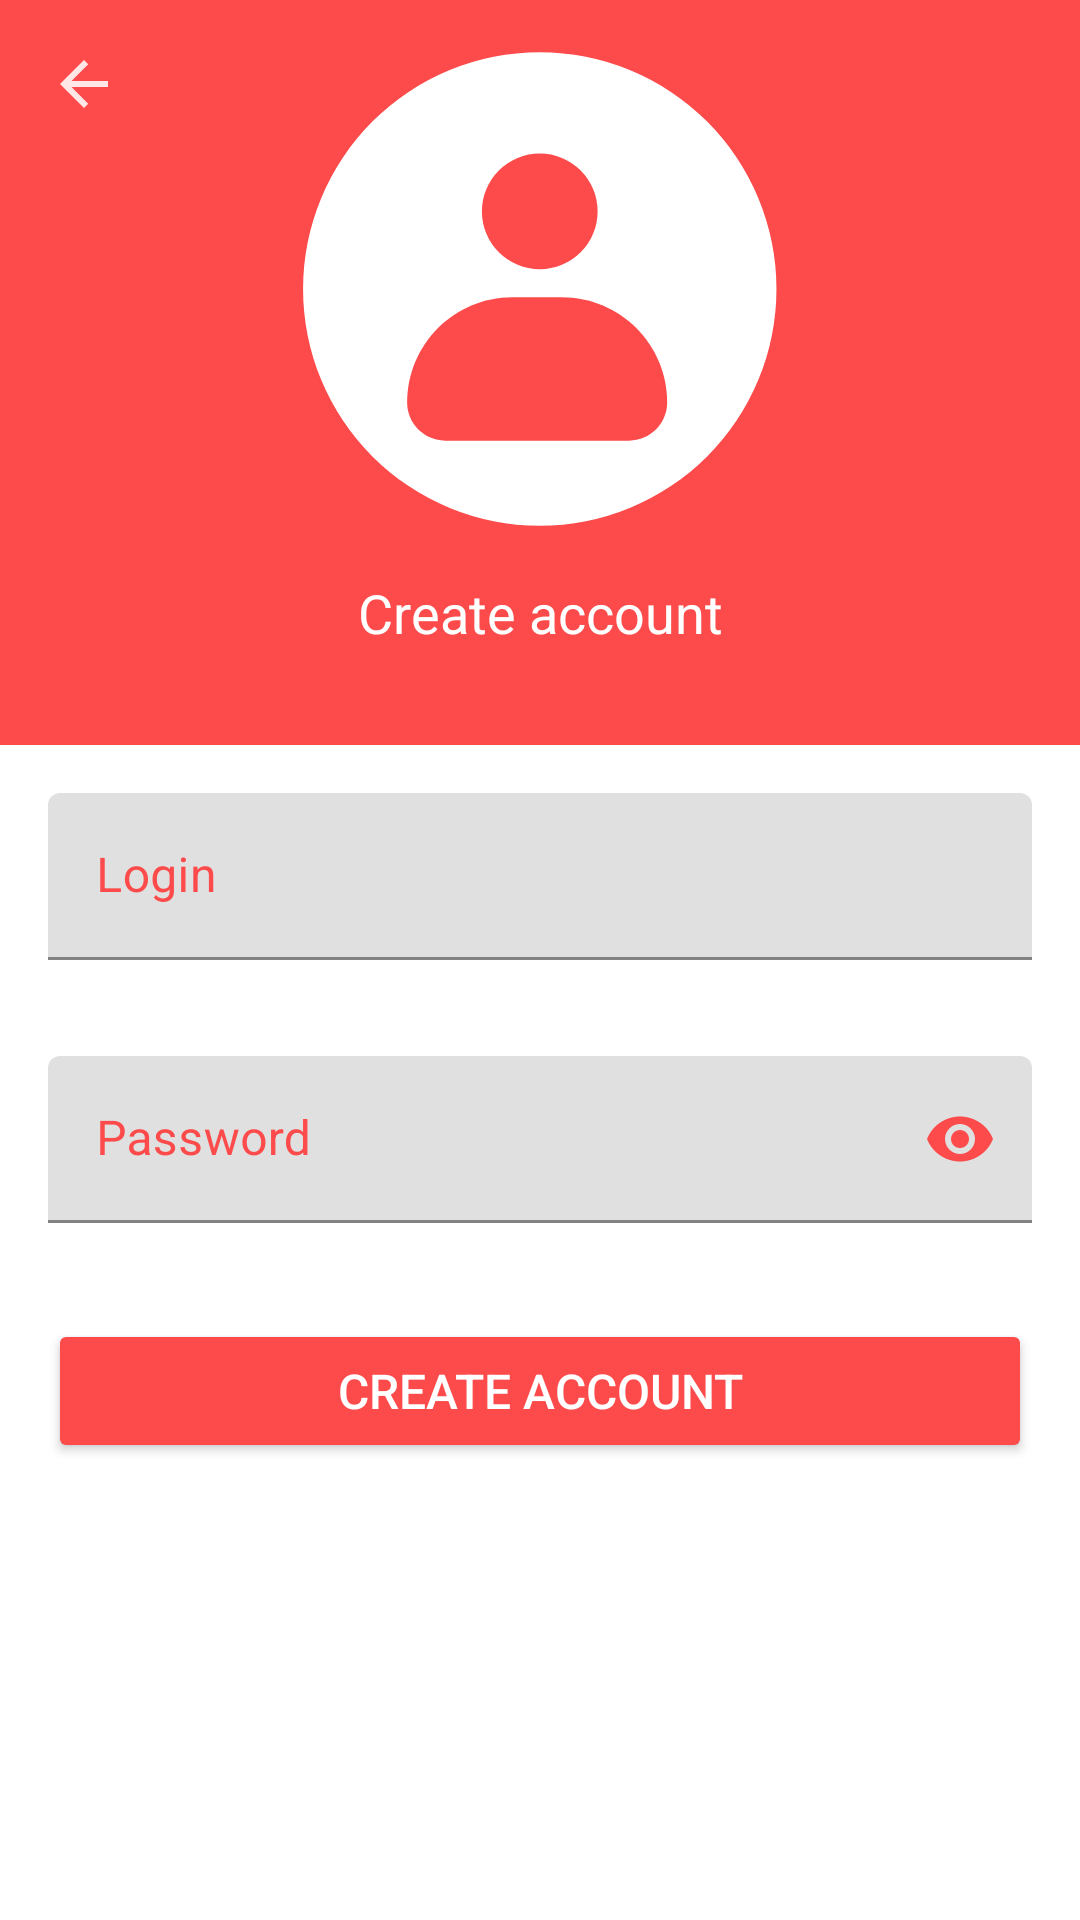

Named icons in this screenshot (1080 x 1920) and their centers, [x,y]:
icnew back: [84,84]
